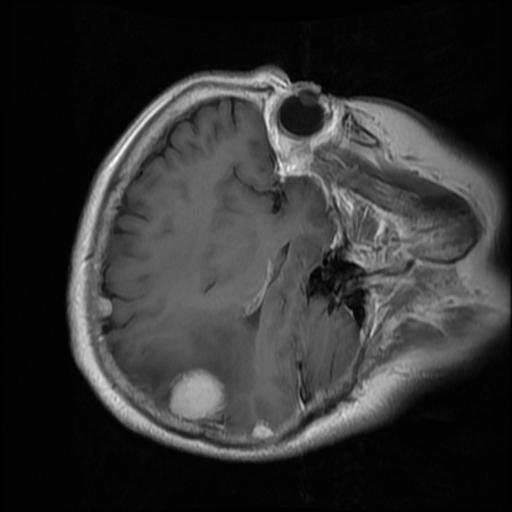meningioma: (169, 372, 223, 419)
